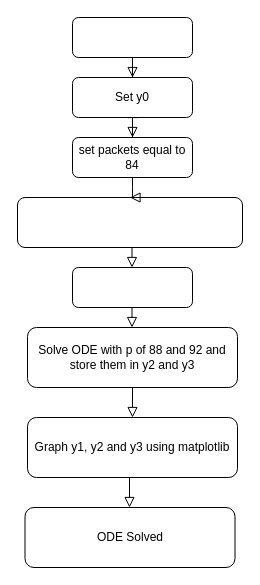
The diagram is 260 pixels wide and 585 high, and some of its shapes have lost their labels. The shapes that lost their labels are listed below. From the top down, each one's centre as x and y in pixels, then its label:
At point (132, 37): "ODE needs to be solved".
At point (129, 222): "Solve ODE with odeint and model function and set solution in y1".
At point (132, 287): "Solve ODE with p of 88 and 92".
